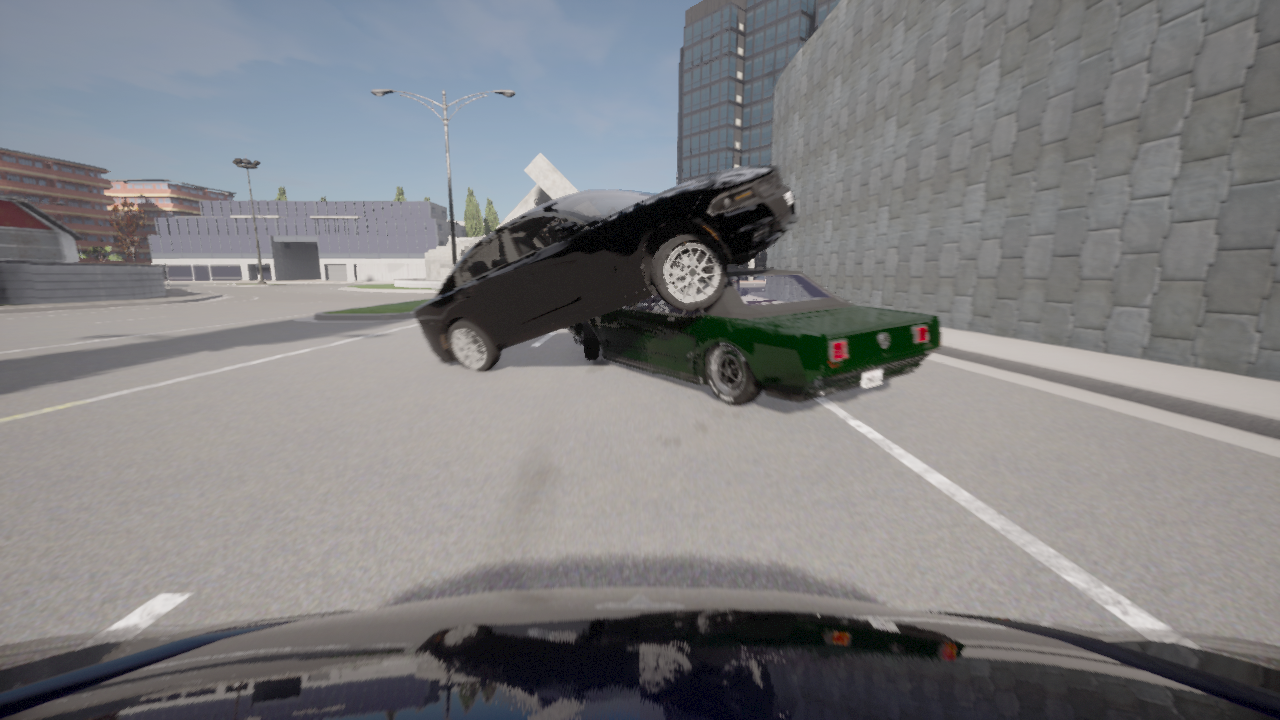cyclist: (0, 588, 1279, 719), (412, 166, 799, 371), (565, 269, 940, 405)
